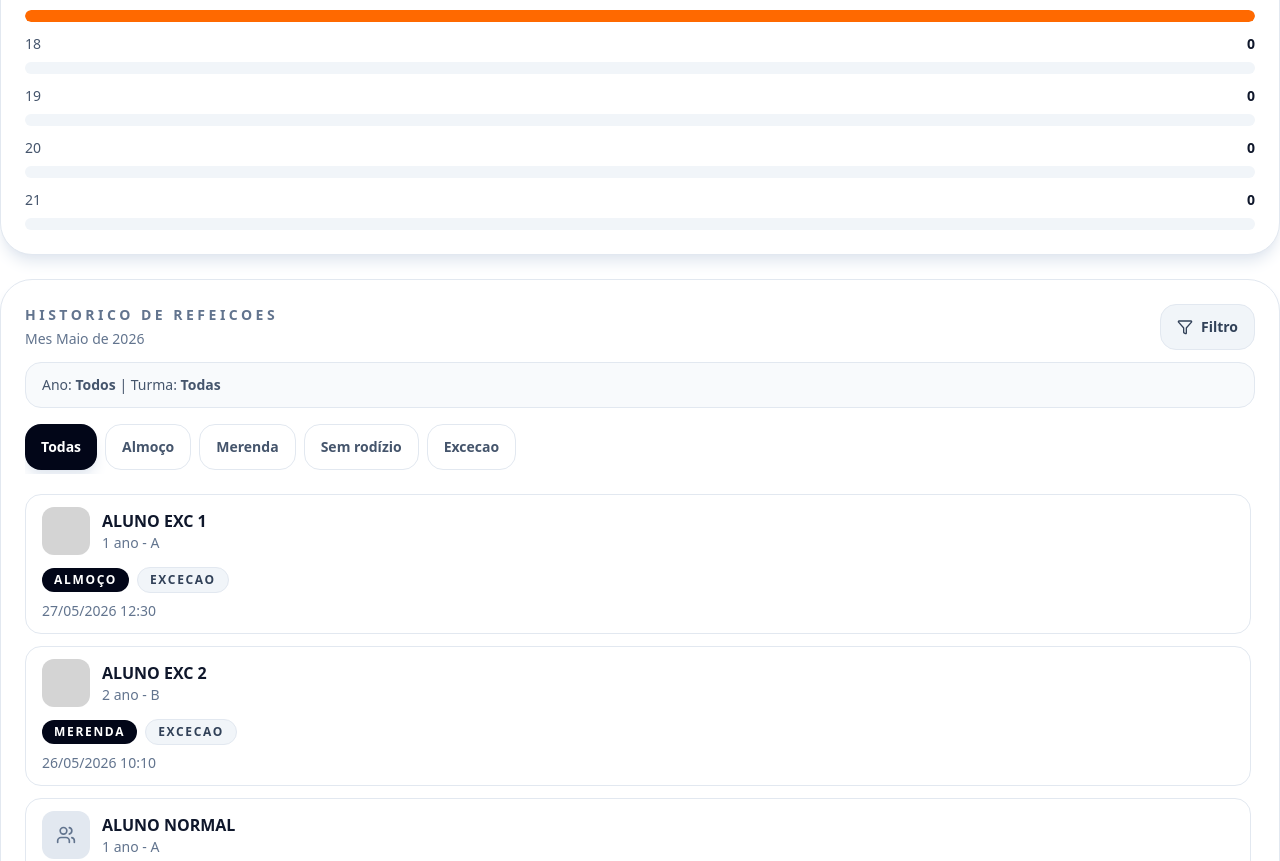
it: StatsPanel historico de refeicoes › mostra historico com todas as entradas por padrao e filtro por excecao
(page scrolled)
expect the text "Historico de refeicoes" is shown: met, box [25,305,278,324]
expect the text "ALUNO EXC 1" is shown: met, box [102,509,207,533]
Click the button "Excecao": (471, 447) [427,424,516,470]
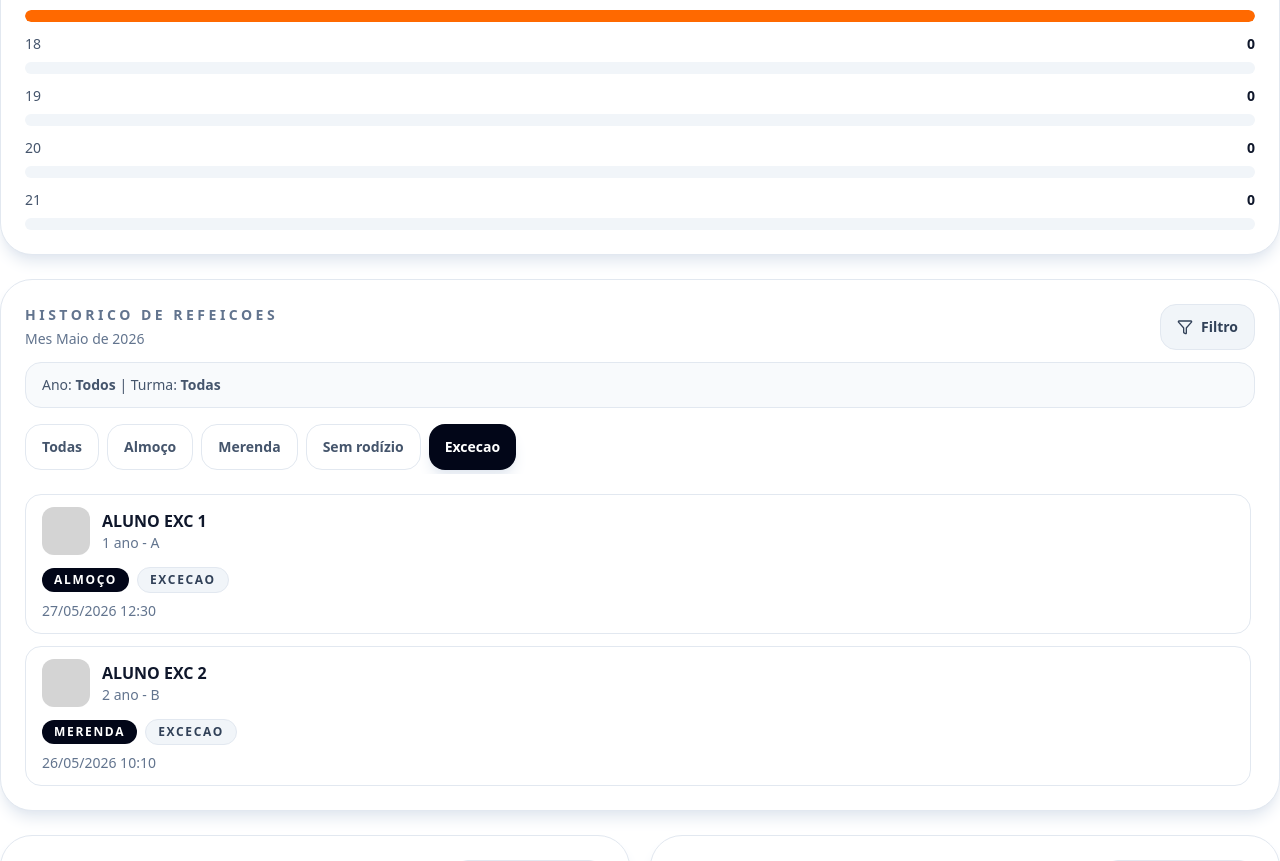
expect the text "ALUNO EXC 1" is shown: met, box [102,509,207,533]
expect the text "ALUNO NORMAL" is gone: met
